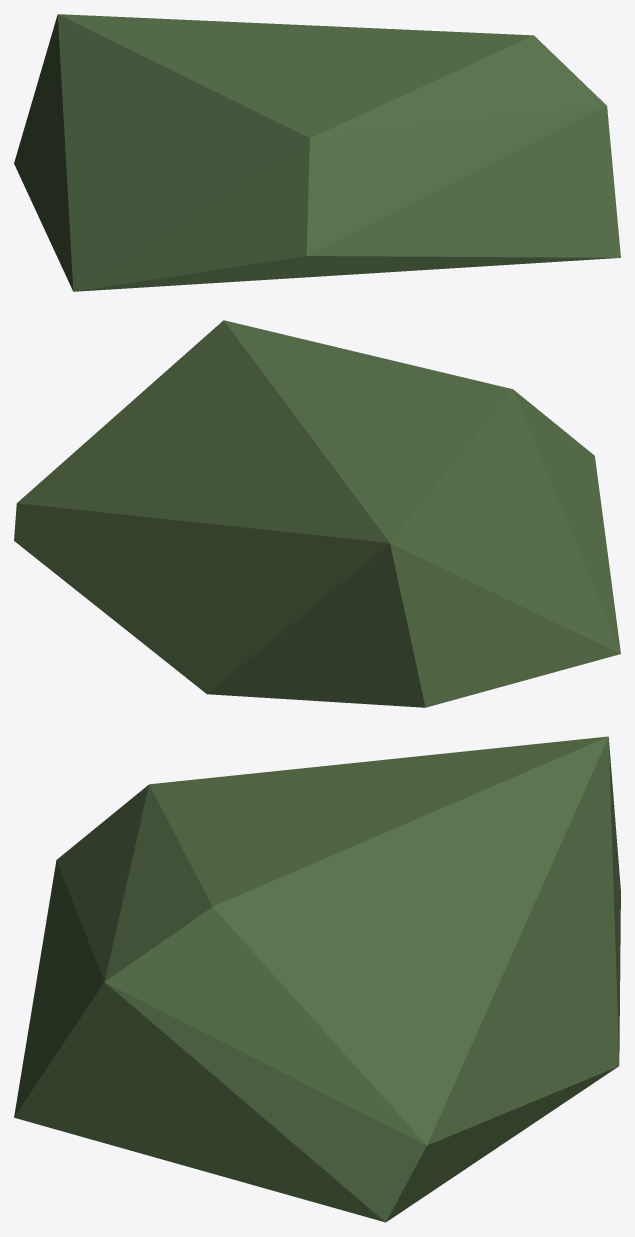
The model's file is Plant_1.lod4.glb.
3 views of the same model, one above another, from view 1: azimuth 30°, elevation 25°; view 2: azimuth 150°, elevation 25°; view 3: azimuth 270°, elevation 25° (orthographic). The views are drawn at different scales.
Visible parts, largest first — view 1: Plant_1; view 2: Plant_1; view 3: Plant_1.
Part boxes in pixels (bbox=[...]): Plant_1: bbox=[14, 14, 620, 291]; Plant_1: bbox=[14, 320, 620, 707]; Plant_1: bbox=[14, 736, 620, 1222].
Bounding box in the file's own units: 1.21 × 0.514 × 0.9308.
